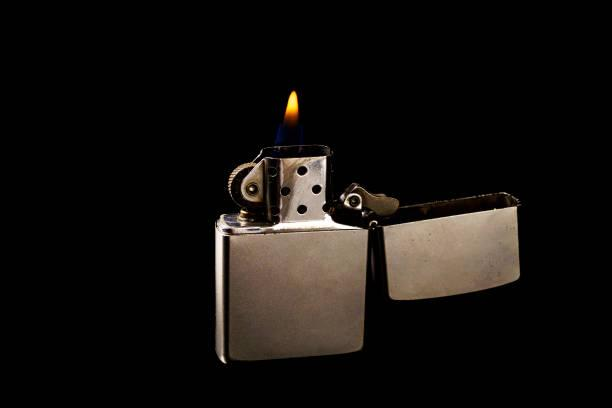Fire: (279, 89, 305, 139)
